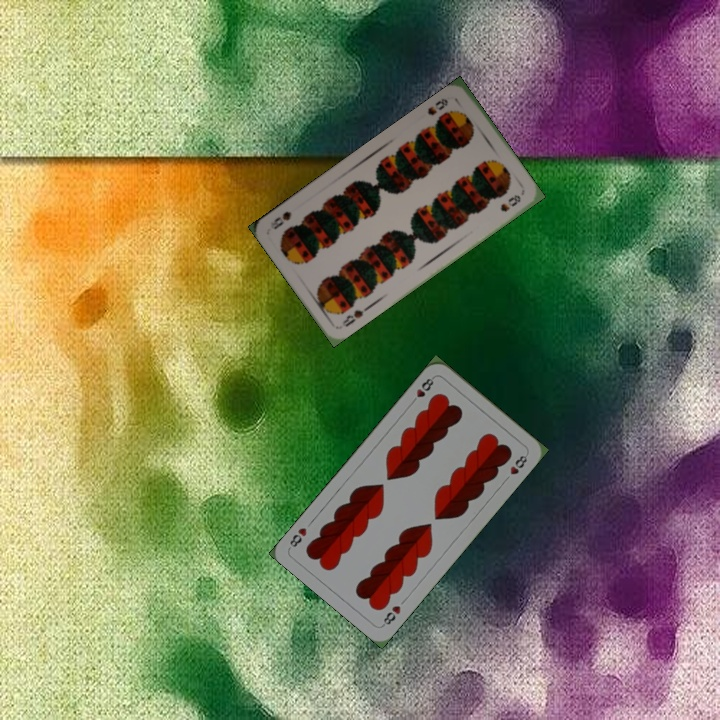H8: (407, 373, 437, 407), (378, 601, 403, 629)
S8: (338, 302, 373, 329), (423, 94, 451, 118)
